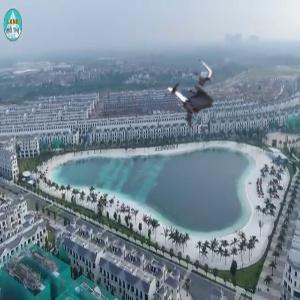drone: (159, 60, 230, 131)
